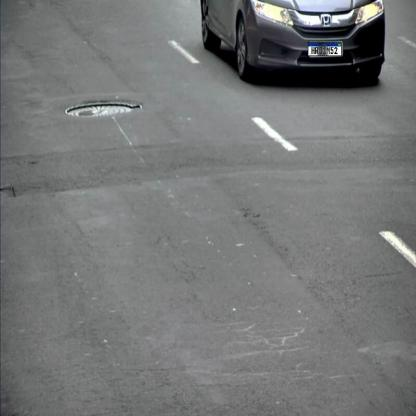PlacaM: (308, 42, 341, 56)
